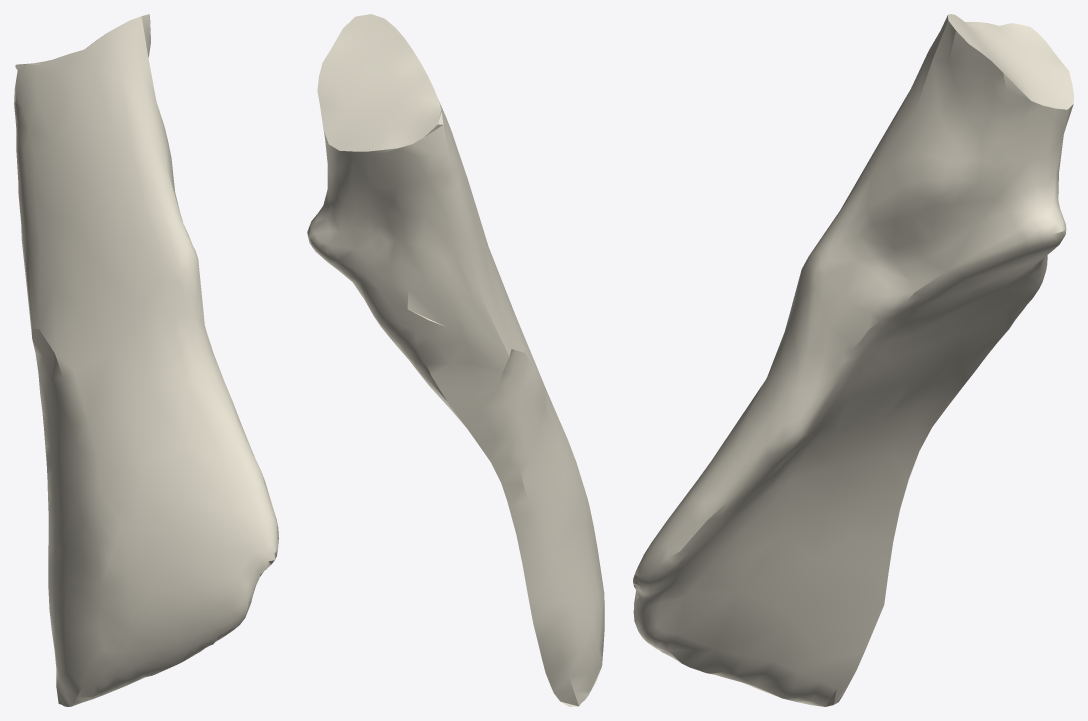
The model's file is fma53647_mm2065m.glb.
3 views of the same model, side by side, from view 1: azimuth 30°, elevation 25°; view 2: azimuth 150°, elevation 25°; view 3: azimuth 270°, elevation 25° (orthographic). The views are drawn at different scales.
Parts seen in each view (by area): view 1: FMA53647_MM2065M; view 2: FMA53647_MM2065M; view 3: FMA53647_MM2065M.
Part boxes in pixels (left/top/right/bottom): FMA53647_MM2065M: left=14, top=14, right=278, bottom=706; FMA53647_MM2065M: left=307, top=14, right=604, bottom=706; FMA53647_MM2065M: left=633, top=14, right=1073, bottom=706.
Size of the model in its own units: 0.00769 by 0.0285 by 0.0149.
